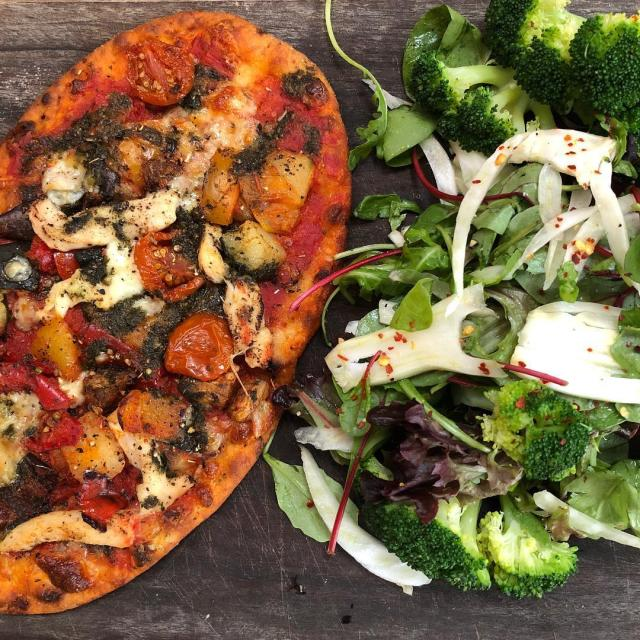pizza: (0, 12, 351, 614)
tomatoes: (134, 232, 205, 302), (165, 313, 234, 382), (126, 38, 194, 106), (118, 390, 192, 441), (54, 251, 80, 280)
